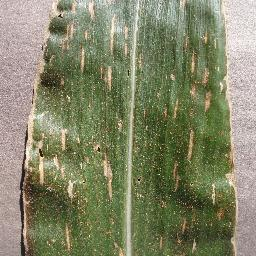Gray_Leaf_Spot: (152, 178, 239, 222), (151, 223, 241, 256), (146, 84, 172, 190), (134, 141, 154, 256), (45, 0, 79, 58), (22, 52, 51, 120), (84, 128, 100, 242), (214, 96, 239, 164), (99, 135, 118, 220), (15, 192, 40, 256), (59, 152, 86, 210), (19, 117, 39, 194), (40, 126, 62, 191), (50, 62, 78, 109), (88, 93, 118, 127), (170, 122, 184, 192), (54, 217, 74, 256), (200, 25, 225, 55), (101, 228, 127, 256), (136, 77, 148, 136), (215, 59, 235, 93), (79, 29, 90, 83), (185, 125, 198, 170), (99, 60, 116, 93), (165, 101, 200, 117), (63, 121, 79, 151), (185, 43, 197, 79), (110, 8, 117, 66), (123, 21, 133, 61), (84, 0, 102, 20), (110, 113, 126, 135), (172, 34, 192, 50), (186, 77, 196, 105), (202, 84, 211, 115), (202, 62, 213, 87), (161, 66, 177, 83), (218, 3, 232, 21), (125, 66, 135, 80), (140, 50, 146, 71), (176, 1, 188, 11), (47, 234, 54, 250), (107, 208, 108, 213)
